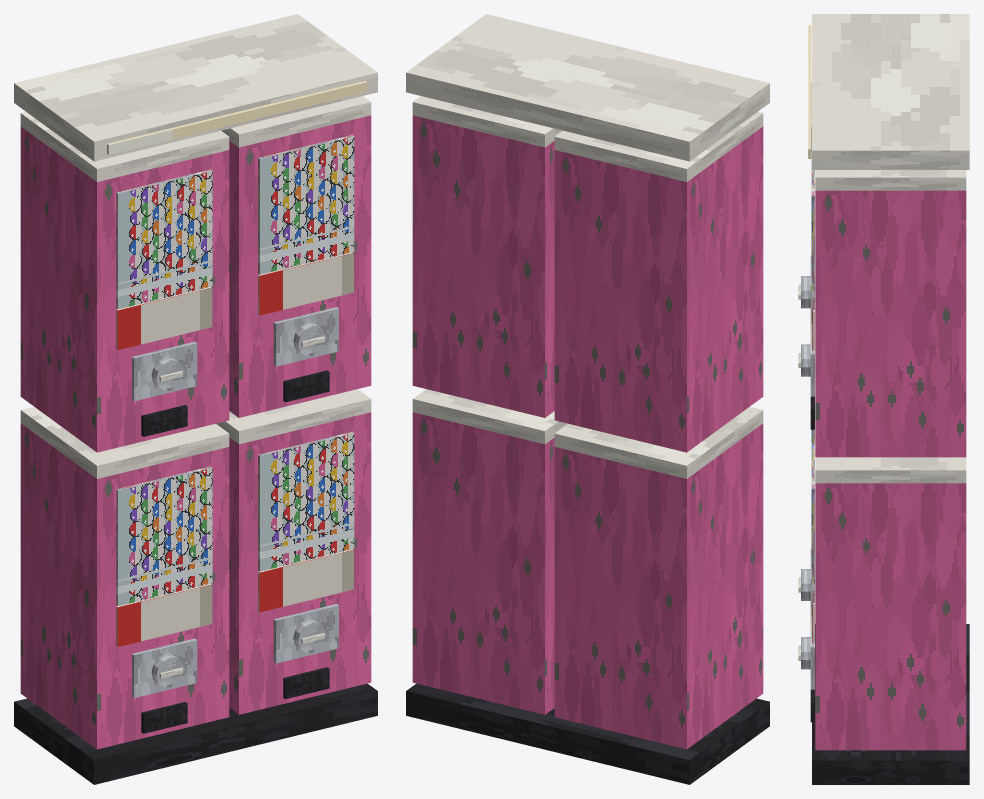
The model's file is route_machine_pink.glb.
3 renders of one model, left to right at view 1: azimuth 30°, elevation 25°; view 2: azimuth 150°, elevation 25°; view 3: azimuth 270°, elevation 25°, orthographic.
Visible parts, largest first — view 1: Cube; view 2: Cube; view 3: Cube.
Part boxes in pixels (x1,y1,x2,y2): Cube: (14, 14, 377, 784); Cube: (406, 14, 769, 784); Cube: (798, 14, 969, 784).
Bounding box in the file's own units: 0.9 × 1.95 × 0.478.
Materials: 7 (7 with a texture image).
